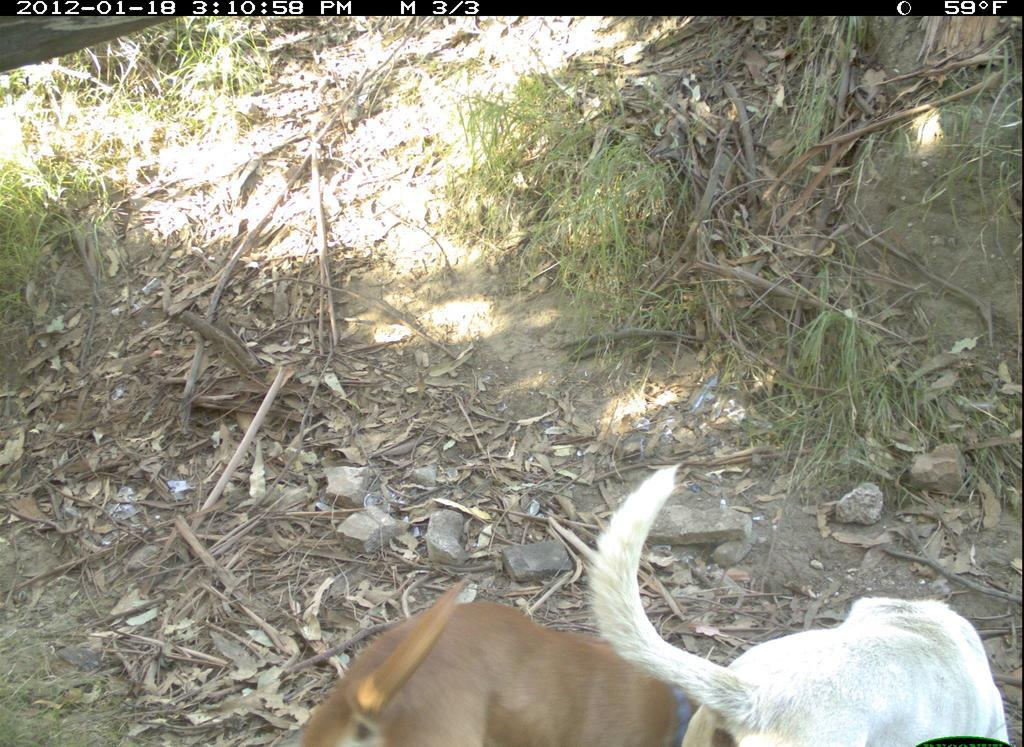dog: (587, 459, 1010, 740), (289, 588, 679, 740)
